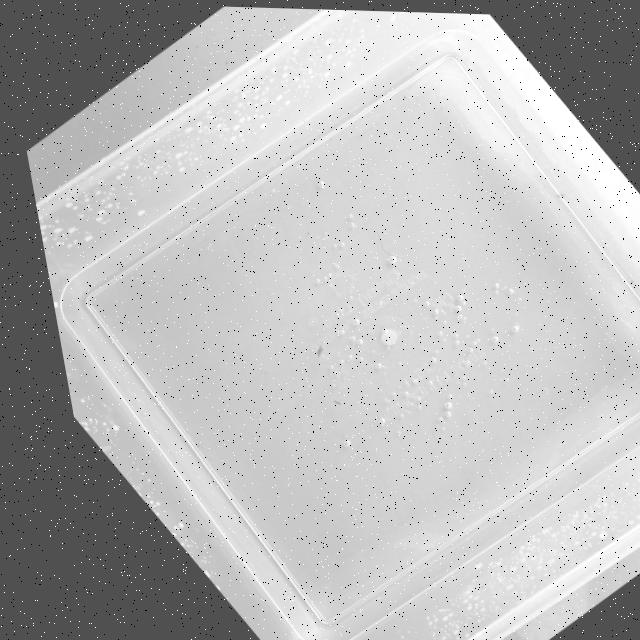Wereng: (298, 336, 334, 368), (321, 391, 348, 415)
